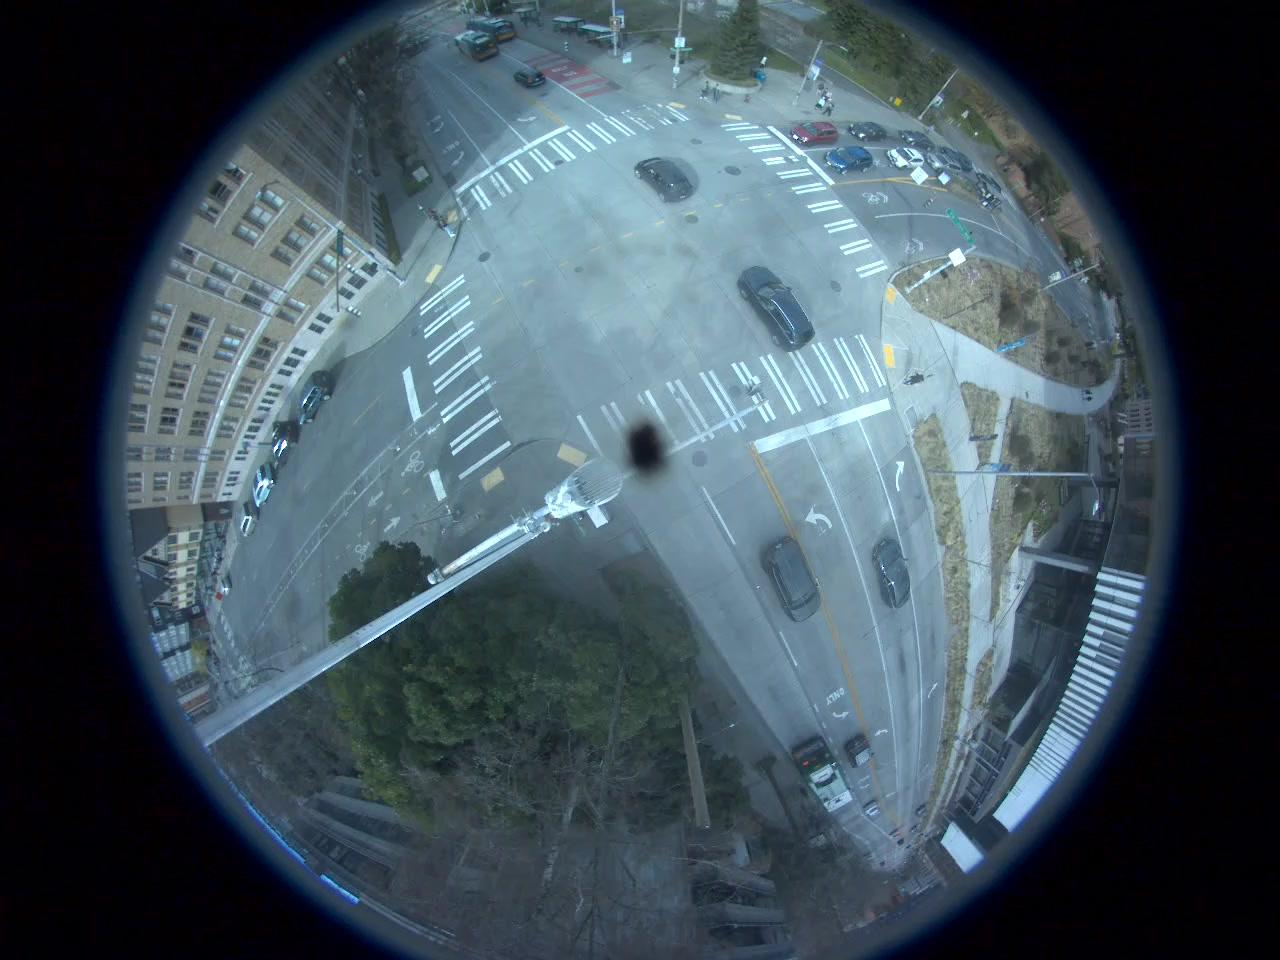bus: (792, 743, 852, 812), (465, 12, 519, 42), (453, 31, 497, 59)
car: (738, 268, 819, 354), (773, 540, 820, 622), (634, 156, 700, 204), (878, 544, 909, 614), (790, 118, 844, 144), (302, 372, 330, 422), (848, 113, 893, 144), (825, 148, 878, 172), (844, 729, 874, 768), (926, 149, 968, 176), (251, 465, 277, 507), (888, 145, 928, 171), (272, 424, 294, 466), (900, 128, 940, 149), (512, 64, 548, 86), (240, 503, 256, 535)
person: (904, 373, 932, 392), (428, 208, 442, 229), (440, 214, 454, 235), (701, 80, 713, 102), (817, 80, 827, 102), (824, 98, 836, 116), (713, 84, 723, 103), (817, 94, 826, 112)
